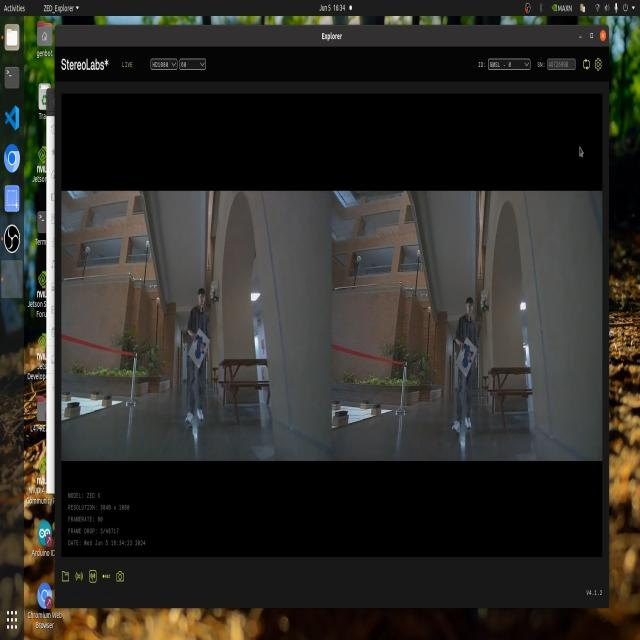blue: (459, 340, 478, 373), (194, 327, 209, 362)
